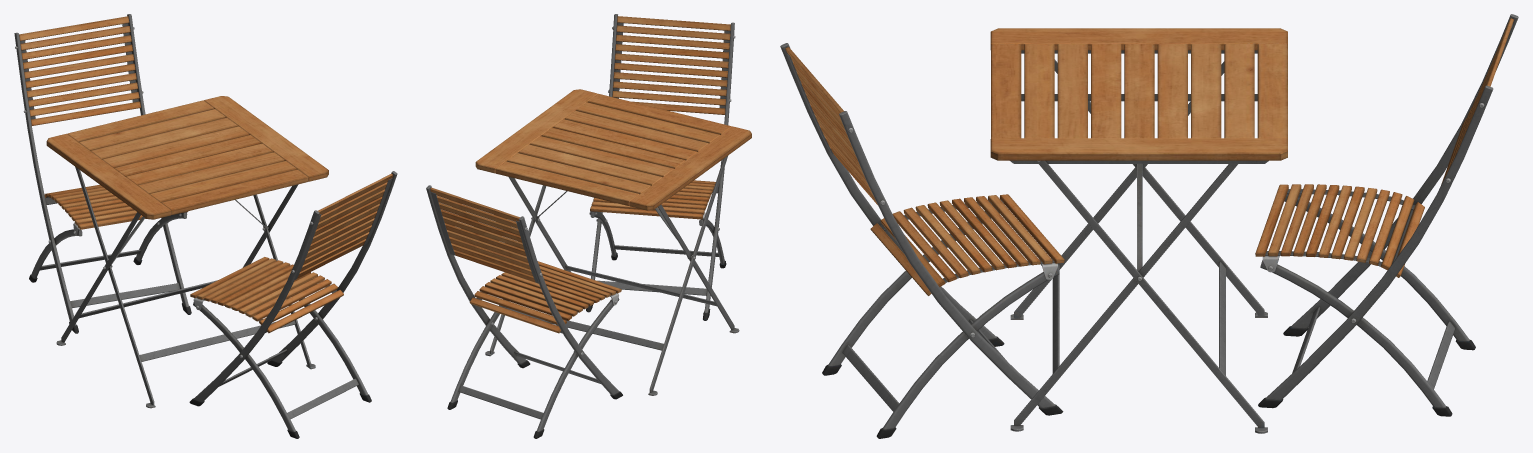
Rendered from outdoor_table_chair_set_01.glb.
3 renders of one model, left to right at view 1: azimuth 30°, elevation 25°; view 2: azimuth 150°, elevation 25°; view 3: azimuth 270°, elevation 25°, orthographic. The views are drawn at different scales.
Parts seen in each view (by area): view 1: outdoor_table_chair_set_01_table, outdoor_table_chair_set_01_chair_02, outdoor_table_chair_set_01_chair_01; view 2: outdoor_table_chair_set_01_table, outdoor_table_chair_set_01_chair_02, outdoor_table_chair_set_01_chair_01; view 3: outdoor_table_chair_set_01_table, outdoor_table_chair_set_01_chair_01, outdoor_table_chair_set_01_chair_02.
Boxes of the visible parts, left/top/right/bottom form: outdoor_table_chair_set_01_table: left=46, top=96, right=328, bottom=408; outdoor_table_chair_set_01_chair_02: left=14, top=14, right=191, bottom=333; outdoor_table_chair_set_01_chair_01: left=189, top=171, right=397, bottom=438; outdoor_table_chair_set_01_table: left=475, top=89, right=751, bottom=395; outdoor_table_chair_set_01_chair_02: left=426, top=185, right=622, bottom=438; outdoor_table_chair_set_01_chair_01: left=586, top=14, right=735, bottom=320; outdoor_table_chair_set_01_table: left=990, top=28, right=1287, bottom=433; outdoor_table_chair_set_01_chair_01: left=780, top=43, right=1064, bottom=438; outdoor_table_chair_set_01_chair_02: left=1255, top=14, right=1518, bottom=416.
Size of the model in its own units: 0.7417 by 0.8586 by 1.72.
Materials: 2 (2 with a texture image).
